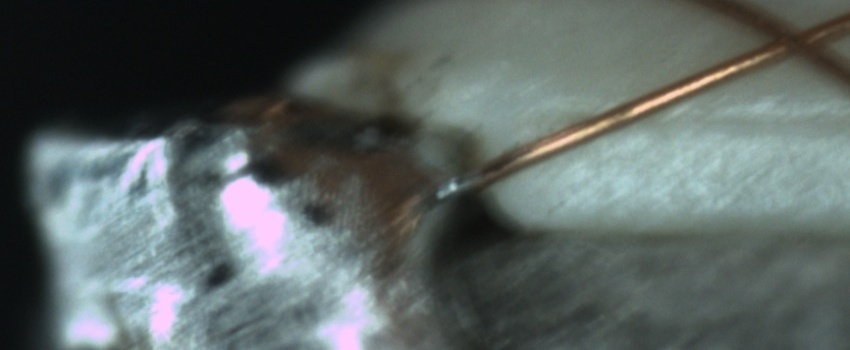CL: (747, 4, 840, 70)
DL: (572, 86, 842, 154)
TS: (433, 168, 480, 206)
